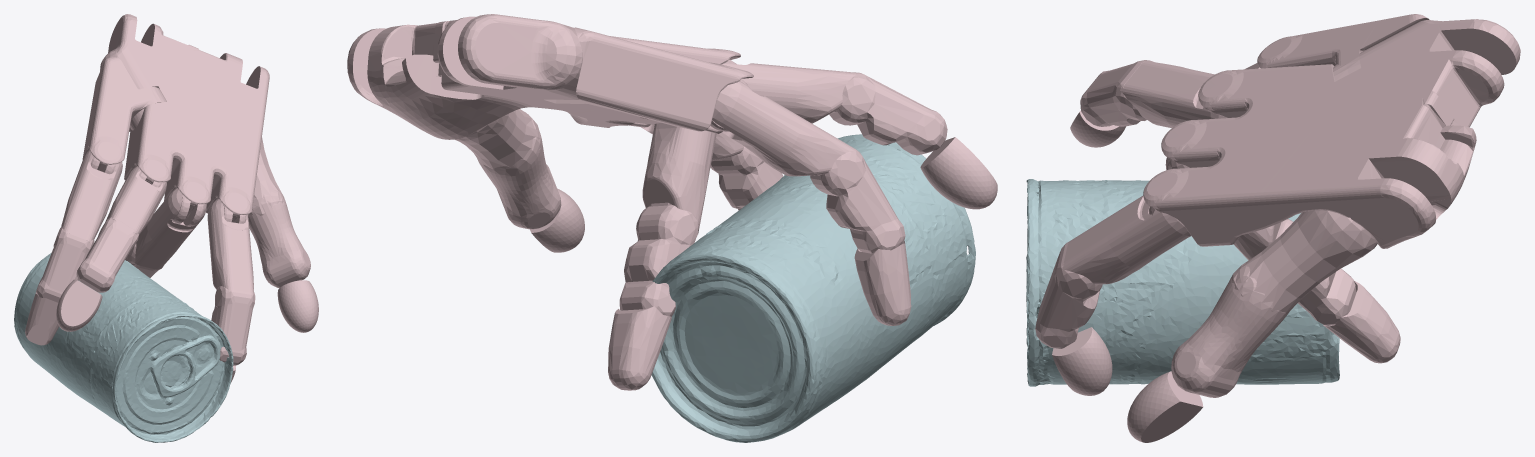
The model's file is grasp_3.glb.
3 views of the same model, side by side, from view 1: azimuth 30°, elevation 25°; view 2: azimuth 150°, elevation 25°; view 3: azimuth 270°, elevation 25° (orthographic). The views are drawn at different scales.
Visible parts, largest first — view 1: world; view 2: world; view 3: world.
Part boxes in pixels (x1,y1,x2,y2): world: (14,14,318,442); world: (347,14,997,442); world: (1026,14,1520,442).
Bounding box in the file's own units: 0.1766 × 0.1556 × 0.1605.
